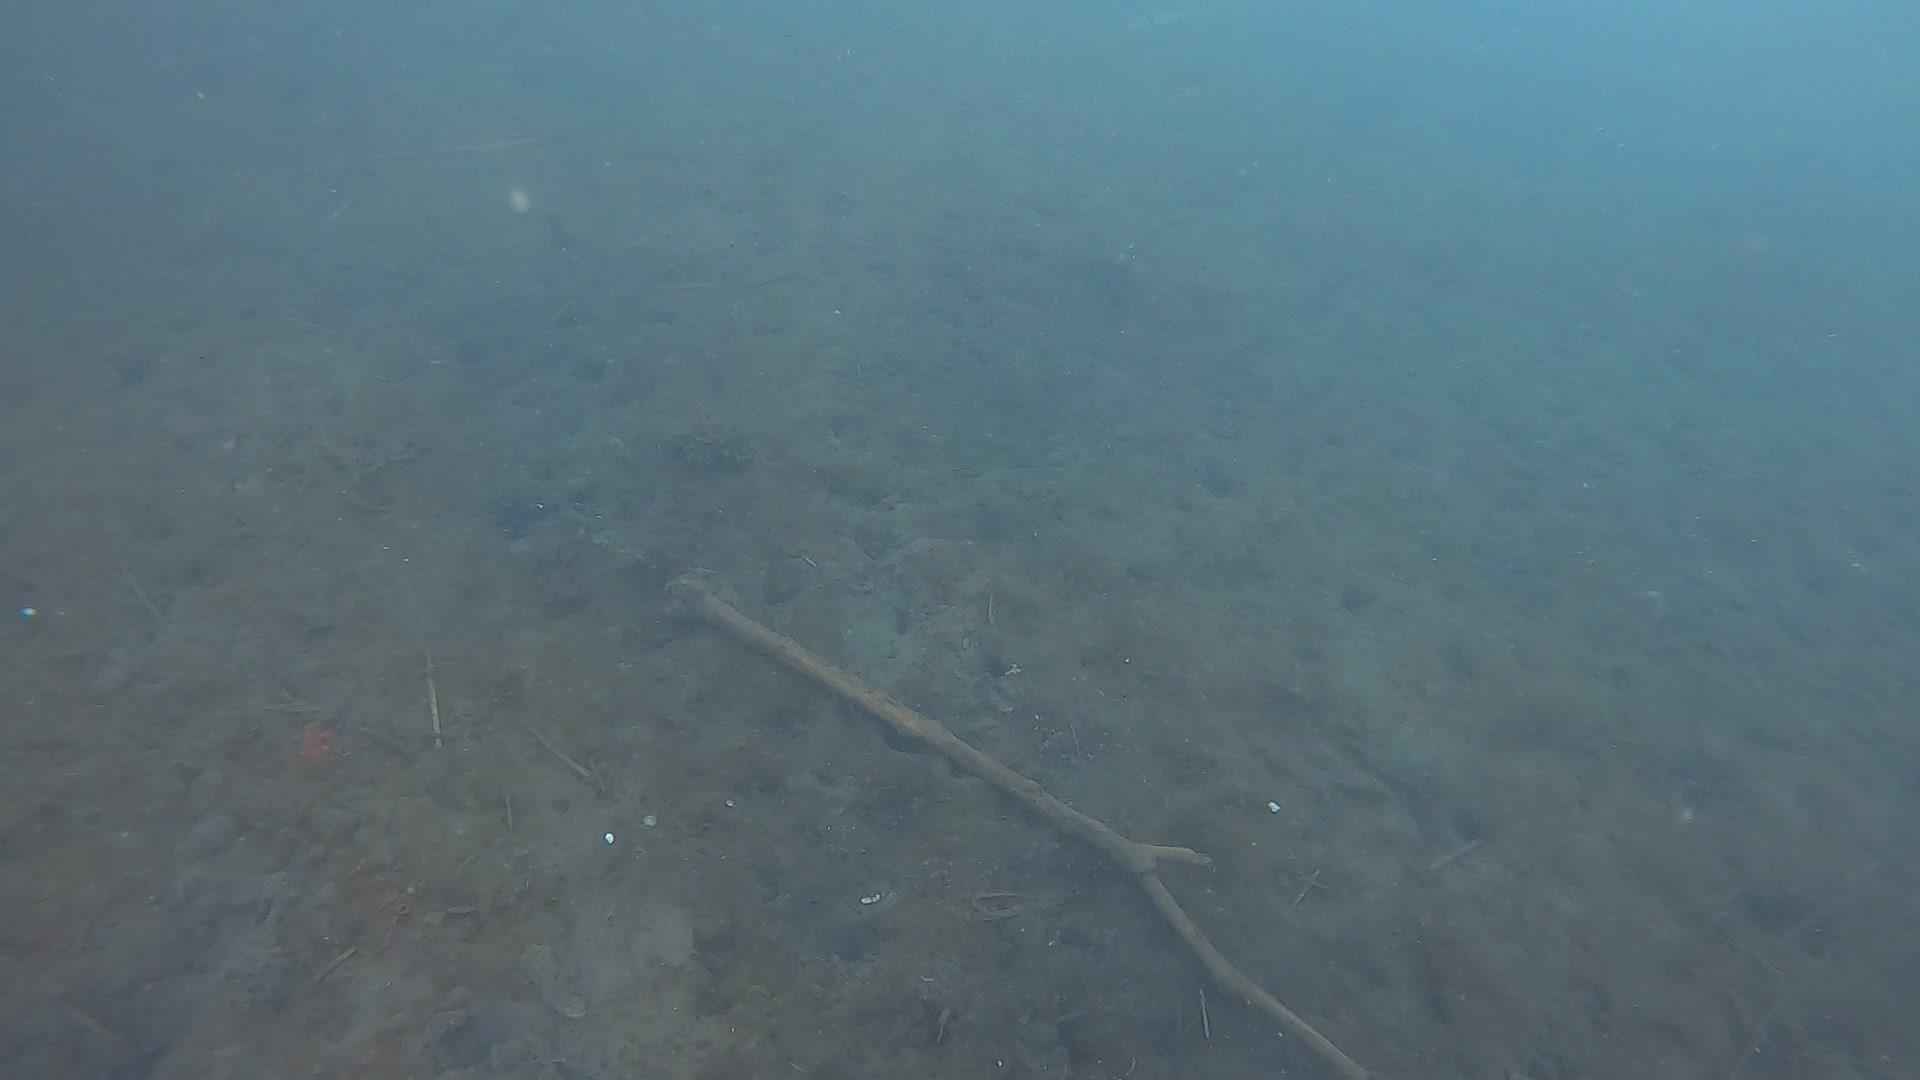wood: (659, 575, 1377, 1080)
